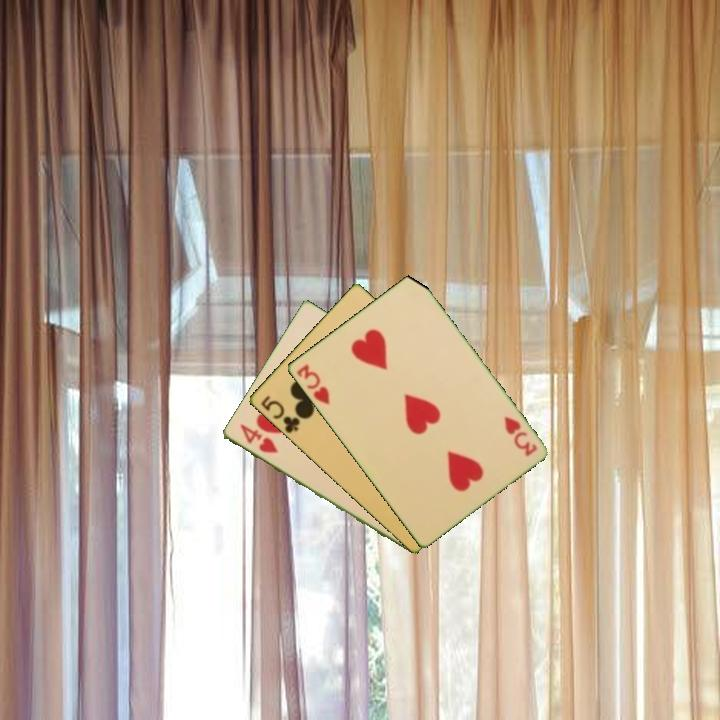3h: (293, 360, 333, 408), (500, 412, 540, 460)
4h: (236, 420, 281, 456)
5c: (257, 392, 303, 436)
